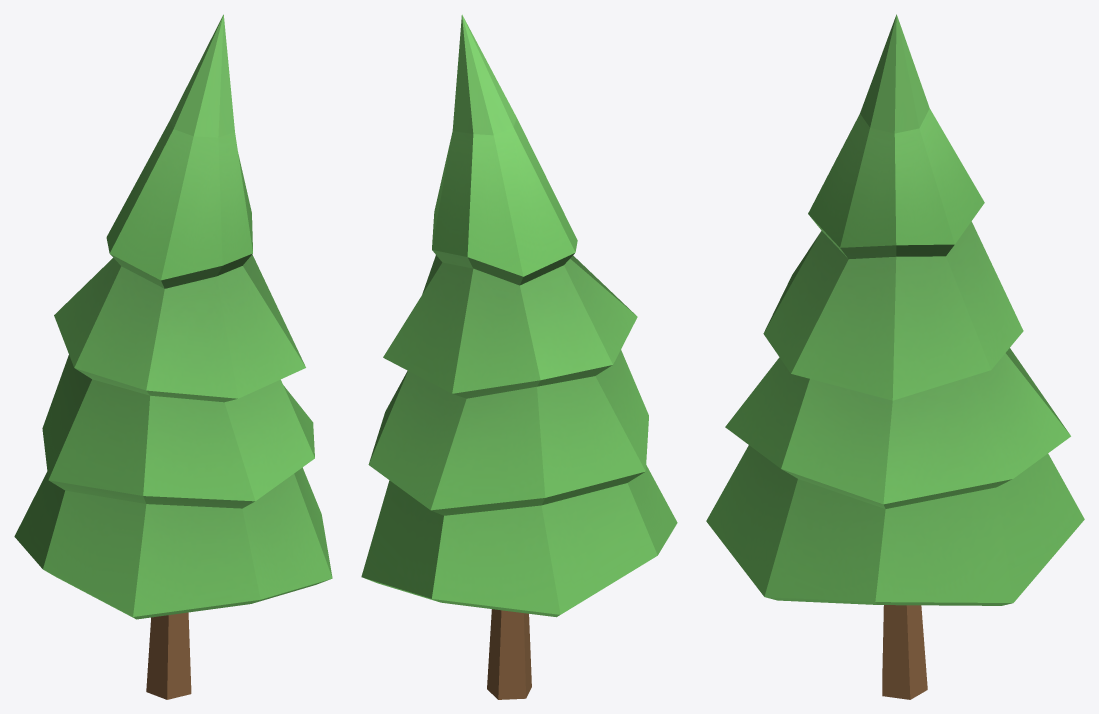
File: Fir_Tree_m_06_LOD.fbx
The picture shows the model from 3 angles, left to right: view 1: azimuth 30°, elevation 25°; view 2: azimuth 150°, elevation 25°; view 3: azimuth 270°, elevation 25°; orthographic projection. The views are drawn at different scales.
Visible parts, largest first — view 1: Fir_Tree_m_06_LOD0; view 2: Fir_Tree_m_06_LOD0; view 3: Fir_Tree_m_06_LOD0.
Part boxes in pixels (<box>): Fir_Tree_m_06_LOD0: <box>14,14,332,699</box>; Fir_Tree_m_06_LOD0: <box>361,14,677,699</box>; Fir_Tree_m_06_LOD0: <box>706,14,1084,699</box>.
Size of what is drawn, in the model's own units: 327 by 752 by 368.
